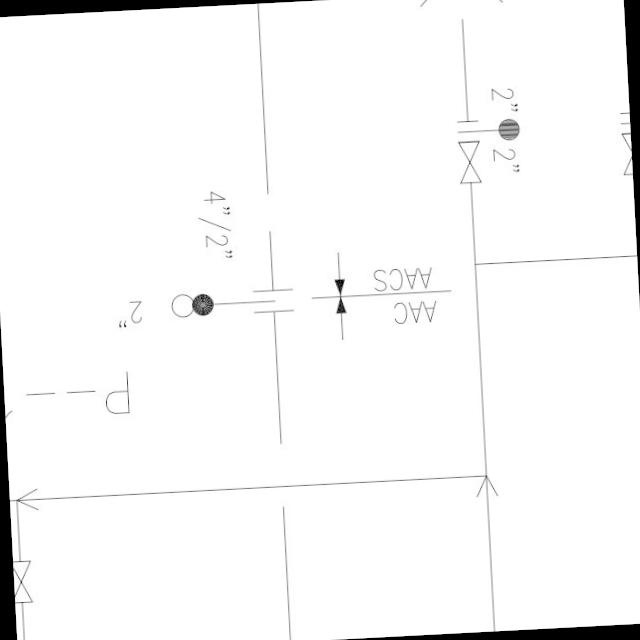GV: (454, 134, 484, 187), (12, 556, 36, 610)
